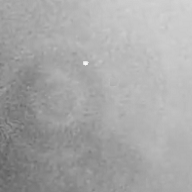Target: (82, 60, 90, 66)
